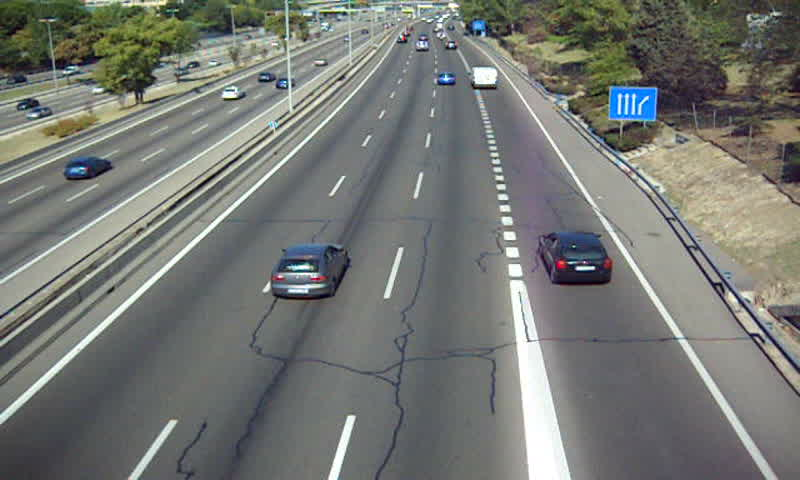car: (272, 246, 345, 299), (539, 233, 614, 284), (436, 73, 455, 88)
van: (471, 66, 498, 91)
